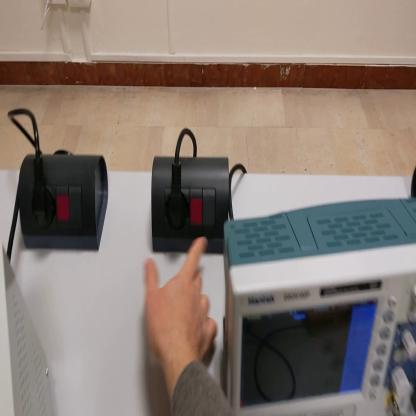hand: (144, 235, 216, 368)
oscilloscope: (224, 200, 416, 416)
power supply: (4, 244, 58, 416)
socket: (20, 154, 109, 253), (151, 158, 231, 258)
